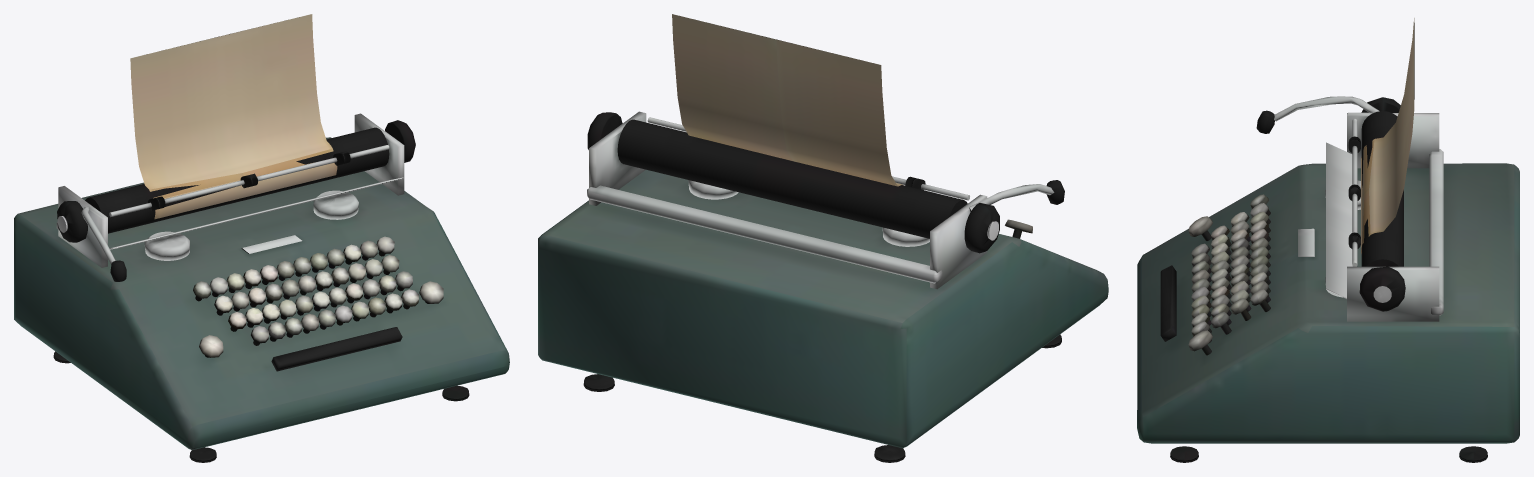
Rendered from typewriter.glb.
The picture shows the model from 3 angles, left to right: view 1: azimuth 30°, elevation 25°; view 2: azimuth 150°, elevation 25°; view 3: azimuth 270°, elevation 25°; orthographic projection. The views are drawn at different scales.
Visible parts, largest first — view 1: carriage; view 2: carriage; view 3: carriage.
Boxes of the visible parts, x1=… form: carriage: x1=14, y1=14, x2=509, y2=462; carriage: x1=538, y1=14, x2=1108, y2=462; carriage: x1=1137, y1=18, x2=1519, y2=462.
Size of the model in its own units: 0.421 by 0.3531 by 0.3709.
1 material, 1 textured.
